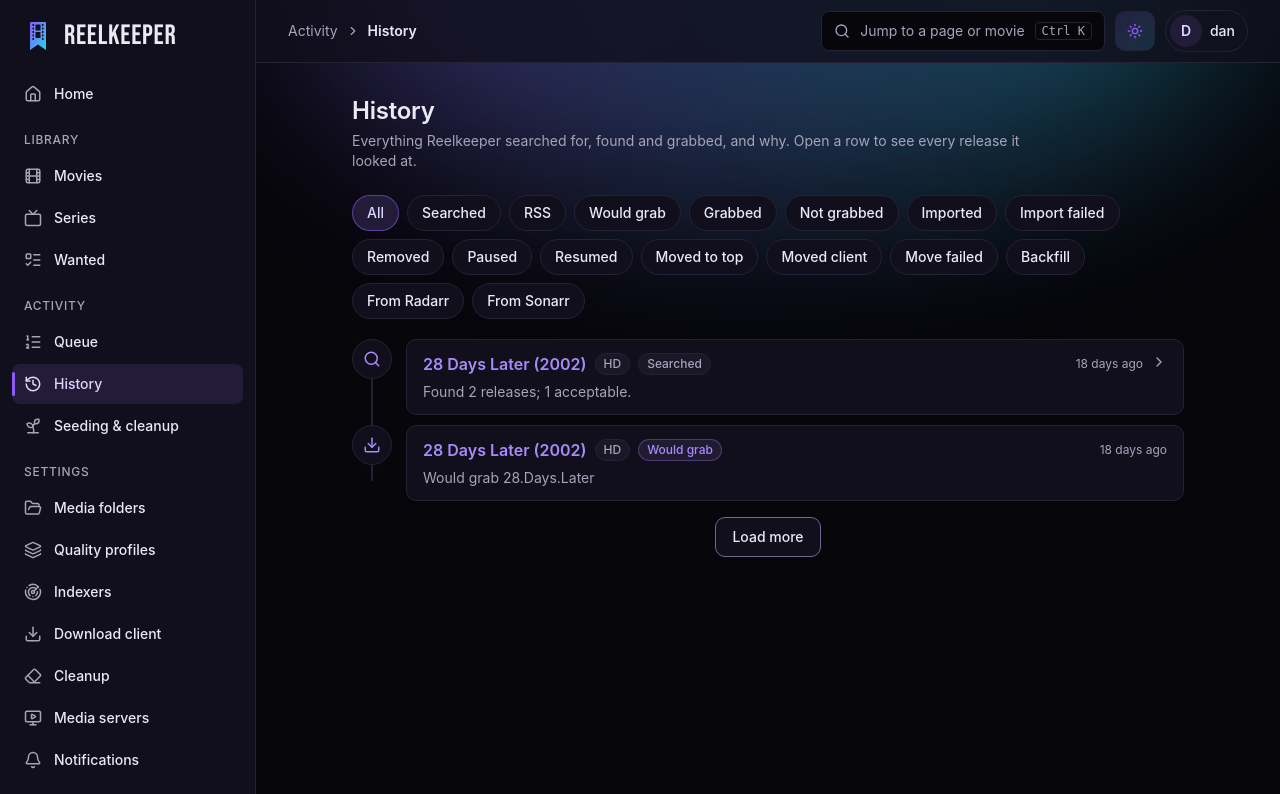
Test: History page › filters by event kind
Expected: the text "Found 2 releases; 1 acceptable." is shown, [423,383,631,400]
Click the button "Would grab" at {"x": 627, "y": 213}, box [574,195,681,231]
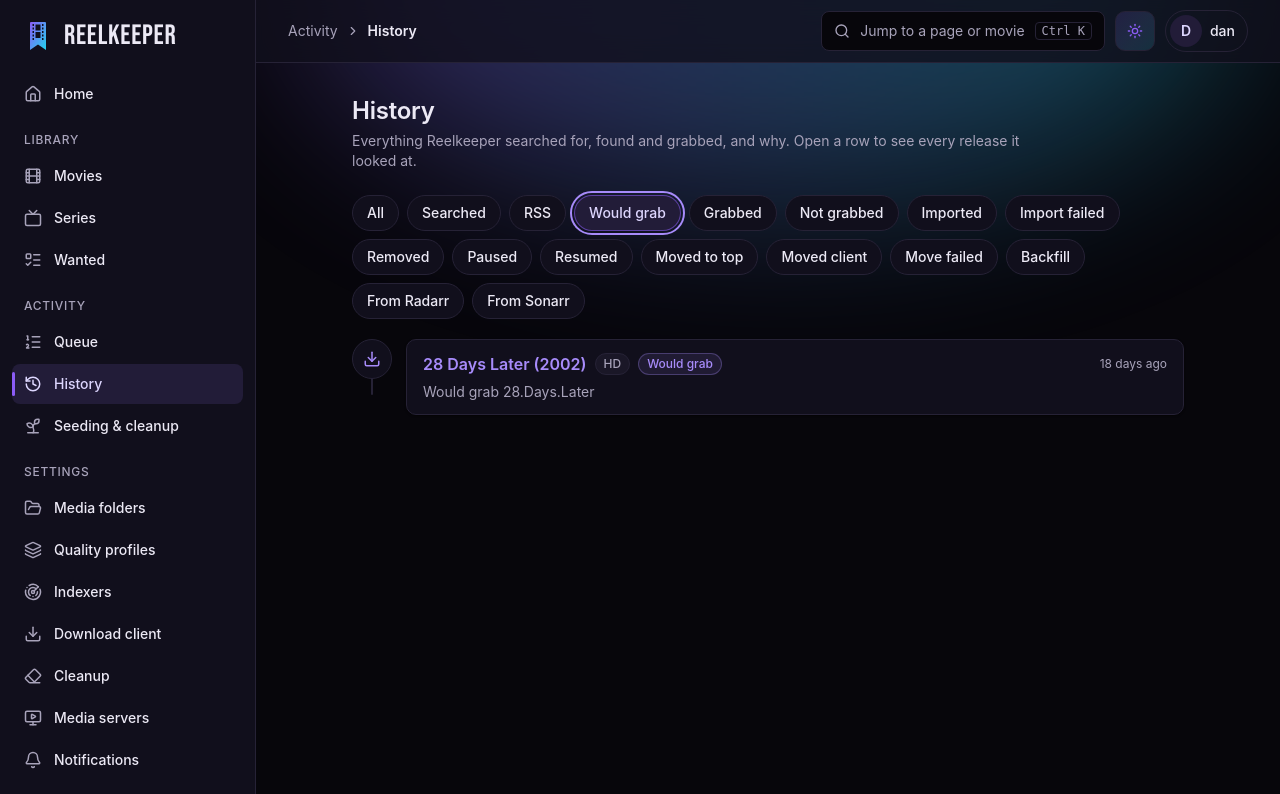
Expected: the text "Would grab 28.Days.Later" is shown, [423,383,594,400]
Now the text "Found 2 releases; 1 acceptable." is gone
